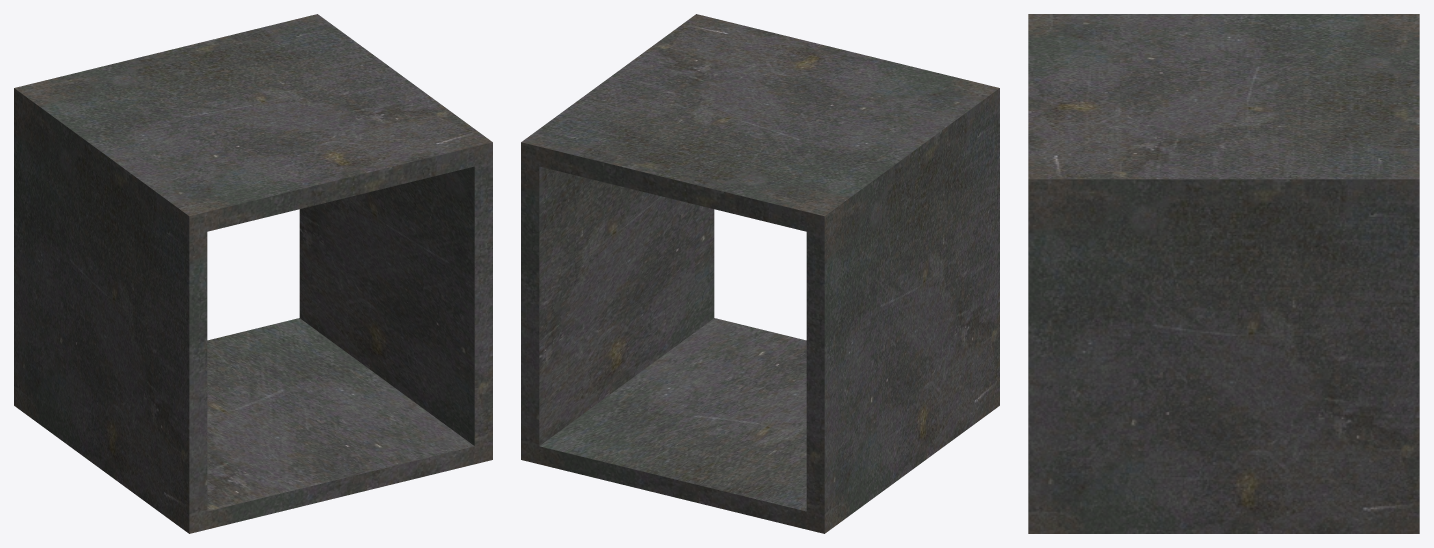
The model's file is elevator.fbx.
3 renders of one model, left to right at view 1: azimuth 30°, elevation 25°; view 2: azimuth 150°, elevation 25°; view 3: azimuth 270°, elevation 25°, orthographic. The views are drawn at different scales.
Visible parts, largest first — view 1: Box001; view 2: Box001; view 3: Box001.
Boxes of the visible parts, x1,y1,x2,y2 form: Box001: (14, 14, 492, 533); Box001: (521, 14, 999, 533); Box001: (1028, 14, 1419, 533).
Bounding box in the file's own units: 1.5 × 1.5 × 1.5.
Materials: 1 (1 with a texture image).
